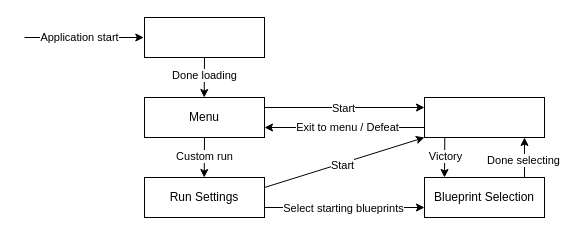
Some shapes in this 576 by 235 pixel diagram are drawn without their labels. Here are the shapes that lost their labels. From the top down, the centre of each, then its label:
the point at 204,37: Loading
the point at 484,117: Battle
